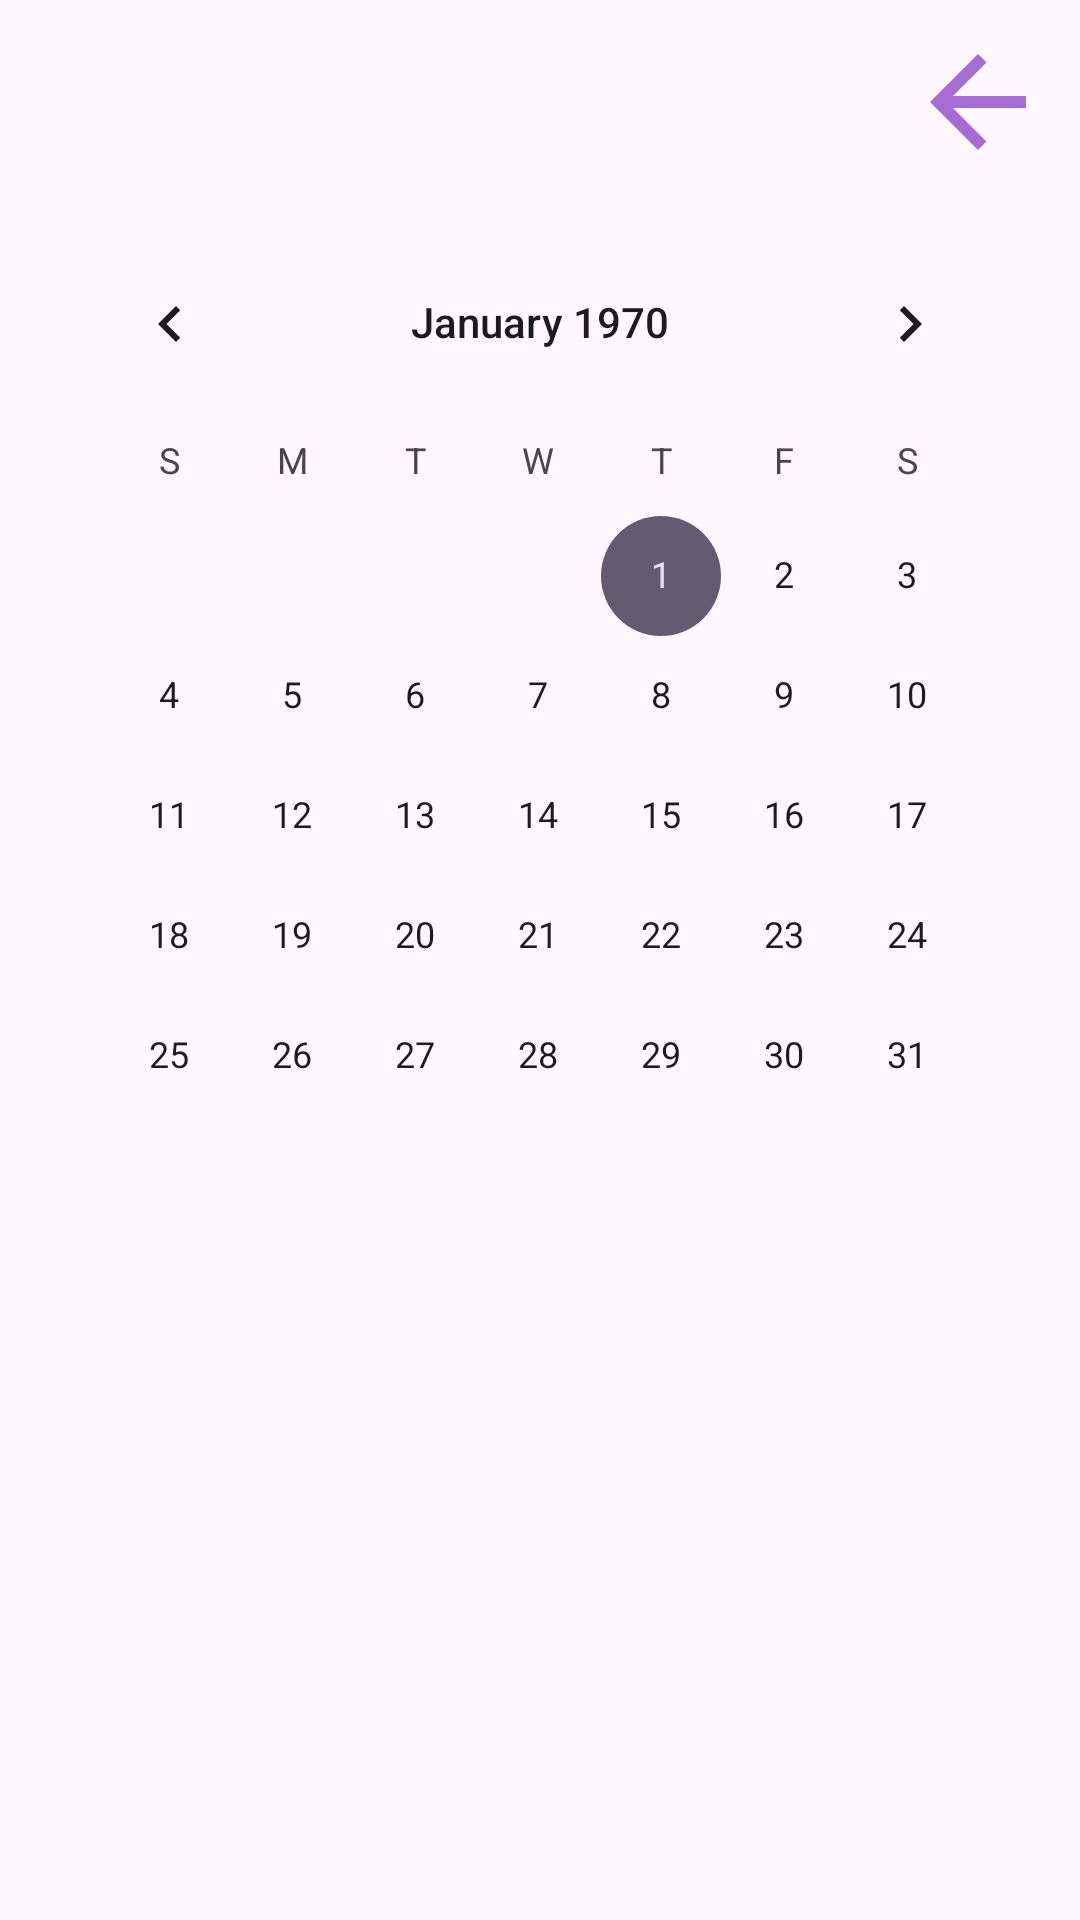

Screen size 1080×1920. Icon name, then its center in pixels as point (x, y):
Cancelar y salir sin guardar: point (978, 102)
